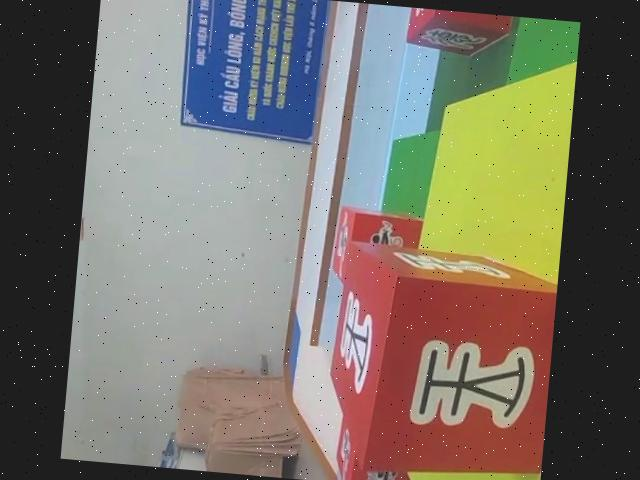R2 Fake: (401, 7, 527, 60)
R2 Real: (319, 234, 560, 480)
